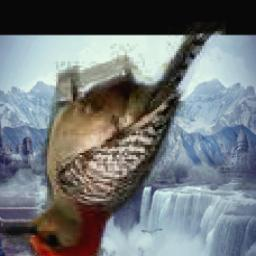Woodpecker: (0, 22, 226, 256)
